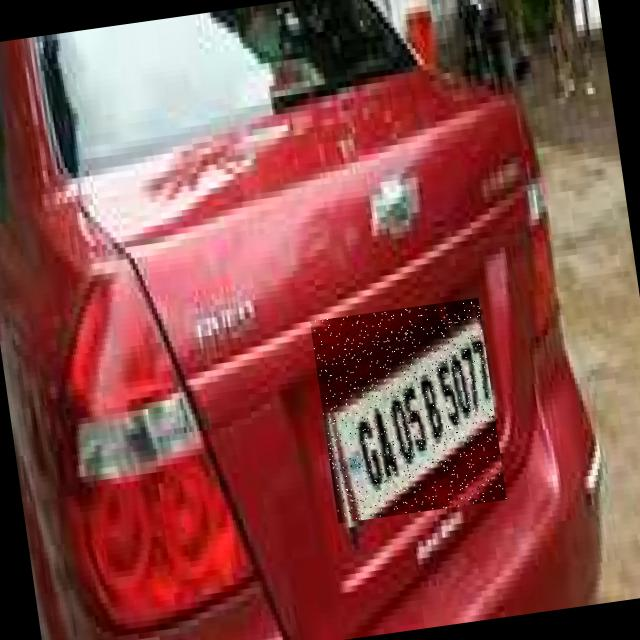Plate: (311, 299, 508, 525)
